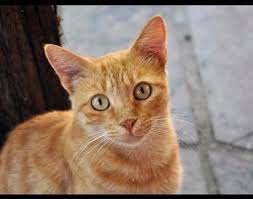Gato: (35, 15, 180, 156)
